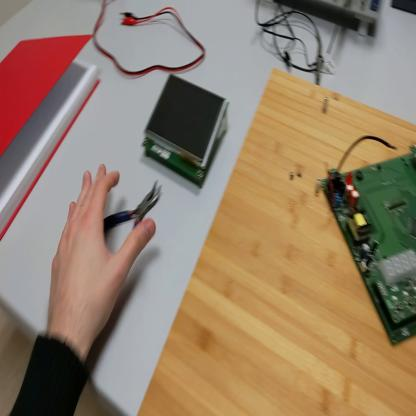hand: (49, 165, 154, 343)
low voltage board: (320, 134, 416, 346)
oscilloscope: (276, 2, 382, 42)
oscilloscope probe tip: (317, 35, 323, 83)
pliers: (108, 181, 166, 236)
register: (2, 34, 102, 254)
working area: (139, 72, 416, 416)
